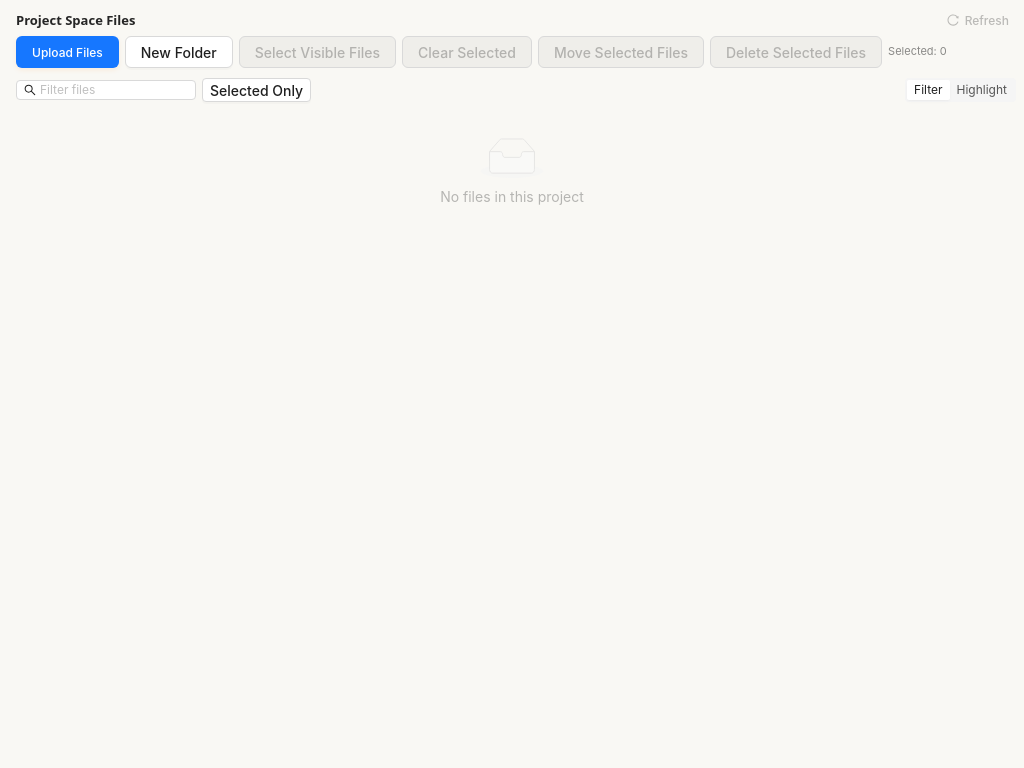
Scenario: ProjectFileTree interactions › filters files by keyword and shows keyword empty state
Type "missing-keyword" into the field with placeholder "Filter files" at (106, 90), box top-left (40, 81), bottom-right (172, 99)
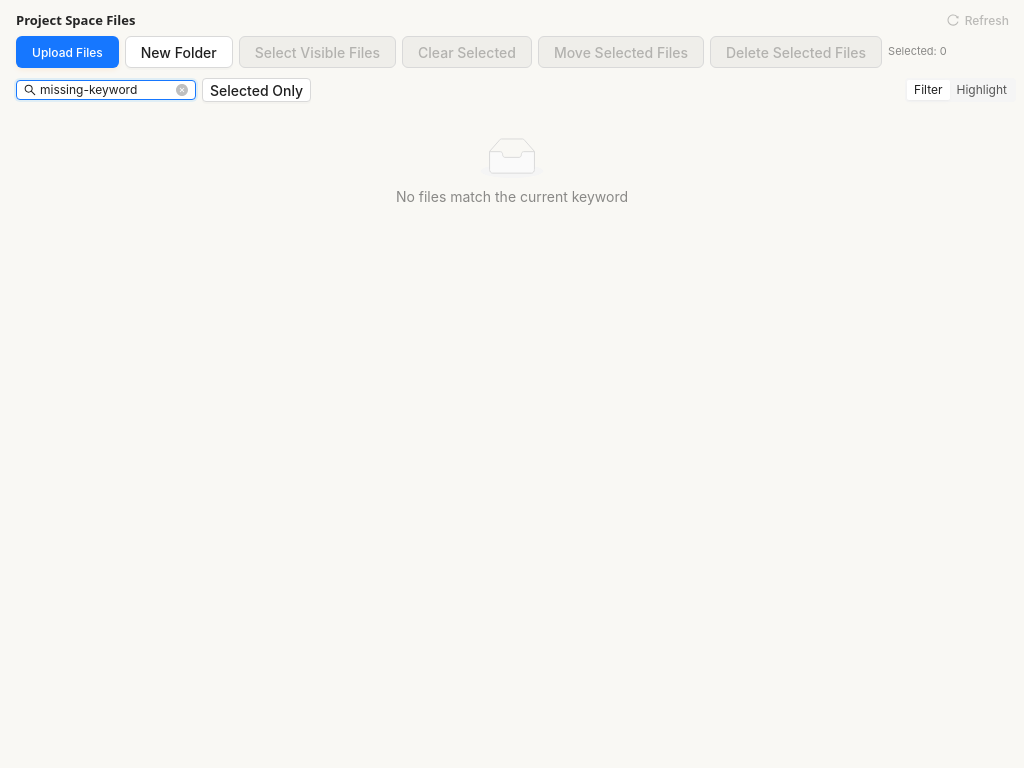
Result: the text "No files match the current keyword" is shown at top-left (396, 188), bottom-right (628, 205)
Replace the text in the field with placeholder "Filter files" with "readme" at (106, 90), box top-left (40, 81), bottom-right (172, 99)
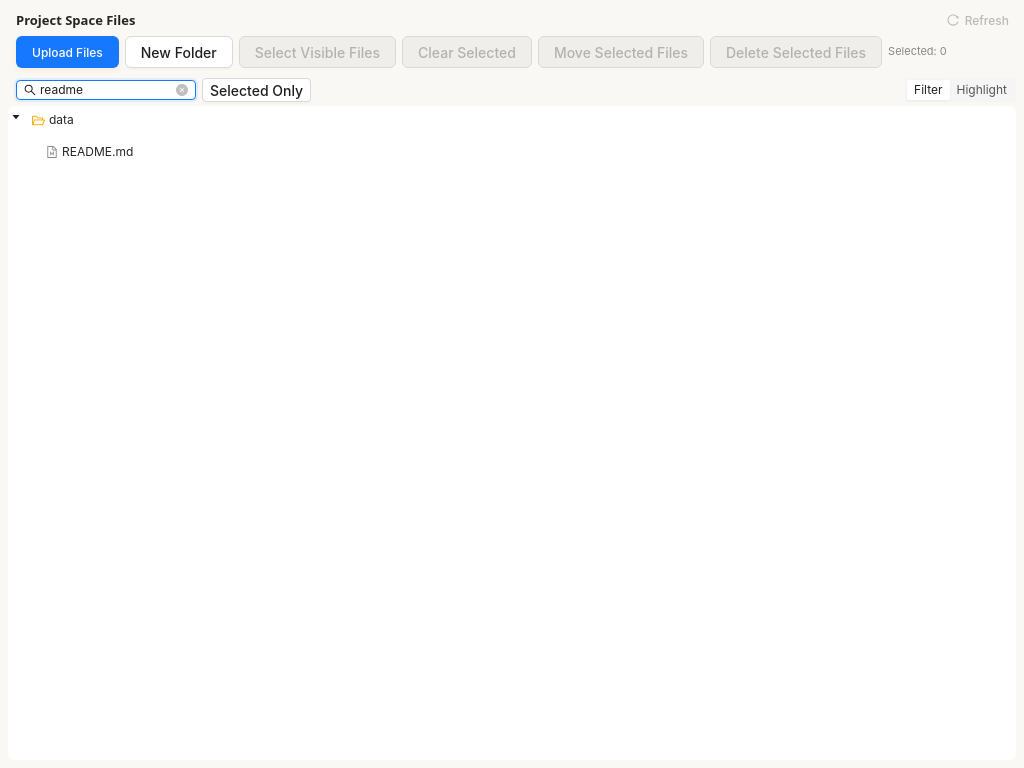
Result: the text "README.md" is shown at top-left (62, 140), bottom-right (133, 164)
